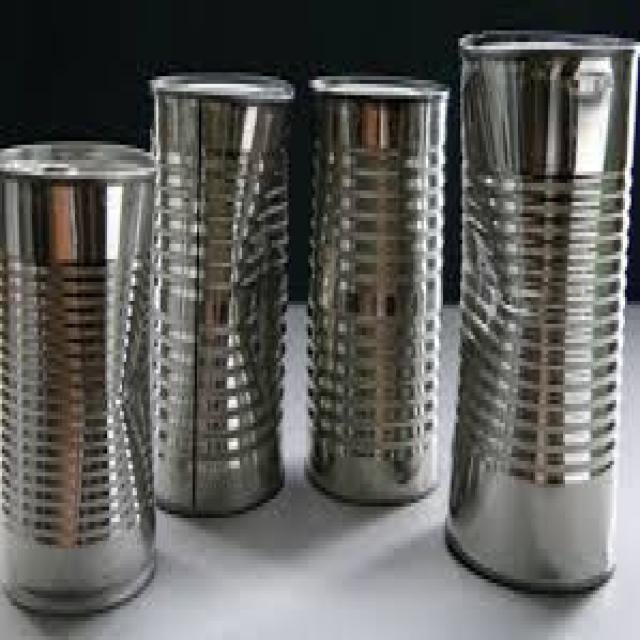metal: (443, 27, 638, 598), (0, 137, 154, 617), (146, 72, 293, 518), (304, 69, 447, 507)
